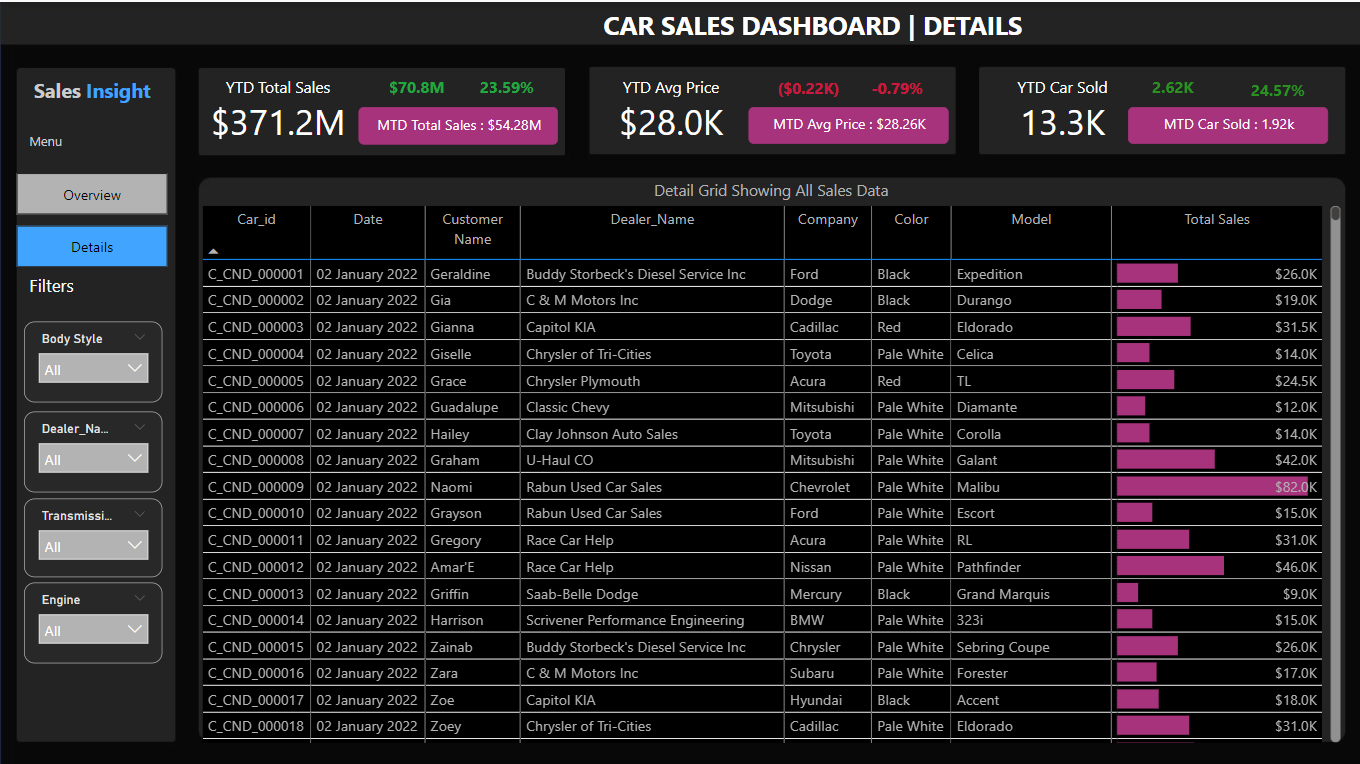

This screenshot's page, from the dashboard's own definition file:
{"tool":"powerbi","page":{"name":"Details","canvas":[1280,720],"ordinal":1},"visuals":[{"type":"card","title":"YTD Total Sales","fields":{"Values":["car_data.YTD Total Sales"]},"box":[184.7,69.1,152.9,65.1],"z":0},{"type":"card","fields":{"Values":["car_data.Sales Difference"]},"box":[349.6,65.2,83.2,34],"z":1000},{"type":"card","fields":{"Values":["car_data.YoY Sales Growth"]},"box":[434.6,65.2,83.2,34],"z":2000},{"type":"card","fields":{"Values":["car_data.MTD KPI"]},"box":[336.8,98.3,187.4,35.2],"z":3000},{"type":"card","title":"YTD Avg Price","fields":{"Values":["car_data.YTD Avg Price"]},"box":[554.2,69.1,152.9,65.1],"z":4000},{"type":"card","fields":{"Values":["car_data.Avg Price Diff"]},"box":[717.7,65.9,83.3,33.3],"z":5000},{"type":"card","fields":{"Values":["car_data.YoY Price Growth"]},"box":[801,65.9,83.3,33.3],"z":6000},{"type":"card","fields":{"Values":["car_data.MTD Avg Price KPI"]},"box":[702.6,98.5,187.8,34.8],"z":7000},{"type":"card","title":"YTD Car Sold","fields":{"Values":["car_data.YTD Cars Sold"]},"box":[922.2,69.1,152.9,65.1],"z":8000},{"type":"card","fields":{"Values":["car_data.\\Car Sold Diff"]},"box":[1059.9,65.1,83.3,33.3],"z":9000},{"type":"card","fields":{"Values":["car_data.YoY Car Sold Growth"]},"box":[1158.4,68.1,83.3,33.3],"z":10000},{"type":"card","fields":{"Values":["car_data.MTD Car Sold KPI"]},"box":[1059.9,98.5,187.8,34.8],"z":11000},{"type":"tableEx","title":"Detail Grid Showing All Sales Data","fields":{"Values":["car_data.Car_id","car_data.Date","car_data.Customer Name","car_data.Dealer_Name","car_data.Company","car_data.Color","car_data.Model","car_data.Price ($)"]},"box":[184.7,166.6,1079.6,534.5],"z":12000},{"type":"slicer","title":"Body Style","fields":{"Values":["car_data.Body Style"]},"box":[22.7,299.8,130.2,75.7],"z":13000},{"type":"slicer","title":"Body Style","fields":{"Values":["car_data.Dealer_Name"]},"box":[22.7,384.6,130.2,75.7],"z":14000},{"type":"slicer","title":"Body Style","fields":{"Values":["car_data.Transmission"]},"box":[22.7,466.4,130.2,74.2],"z":15000},{"type":"slicer","title":"Body Style","fields":{"Values":["car_data.Engine"]},"box":[22.7,545.1,130.2,75.7],"z":16000},{"type":"textbox","box":[22.7,249.8,109,43.9],"z":17000},{"type":"textbox","box":[502.7,0,520.9,45.4],"z":18000},{"type":"pageNavigator","box":[15.5,160.6,142.3,88.8],"z":19000},{"type":"textbox","box":[15.5,64.8,142.3,36.6],"z":20000},{"type":"textbox","box":[22.5,115.5,55,29.6],"z":21000}]}

Visuals, with their boxes in screenshot pixels (x1, y1, x2, y2), scaled from the page's 1280x720 canvas onto the 1360x764 screenshot:
"YTD Total Sales" card: [left=196, top=73, right=359, bottom=142]
card - car_data.Sales Difference: [left=371, top=69, right=460, bottom=105]
card - car_data.YoY Sales Growth: [left=462, top=69, right=550, bottom=105]
card - car_data.MTD KPI: [left=358, top=104, right=557, bottom=142]
"YTD Avg Price" card: [left=589, top=73, right=751, bottom=142]
card - car_data.Avg Price Diff: [left=763, top=70, right=851, bottom=105]
card - car_data.YoY Price Growth: [left=851, top=70, right=940, bottom=105]
card - car_data.MTD Avg Price KPI: [left=747, top=105, right=946, bottom=141]
"YTD Car Sold" card: [left=980, top=73, right=1142, bottom=142]
card - car_data.\Car Sold Diff: [left=1126, top=69, right=1215, bottom=104]
card - car_data.YoY Car Sold Growth: [left=1231, top=72, right=1319, bottom=108]
card - car_data.MTD Car Sold KPI: [left=1126, top=105, right=1326, bottom=141]
"Detail Grid Showing All Sales Data" tableEx: [left=196, top=177, right=1343, bottom=744]
"Body Style" slicer: [left=24, top=318, right=162, bottom=398]
"Body Style" slicer: [left=24, top=408, right=162, bottom=488]
"Body Style" slicer: [left=24, top=495, right=162, bottom=574]
"Body Style" slicer: [left=24, top=578, right=162, bottom=659]
textbox: [left=24, top=265, right=140, bottom=312]
textbox: [left=534, top=0, right=1088, bottom=48]
pageNavigator: [left=16, top=170, right=168, bottom=265]
textbox: [left=16, top=69, right=168, bottom=108]
textbox: [left=24, top=123, right=82, bottom=154]
